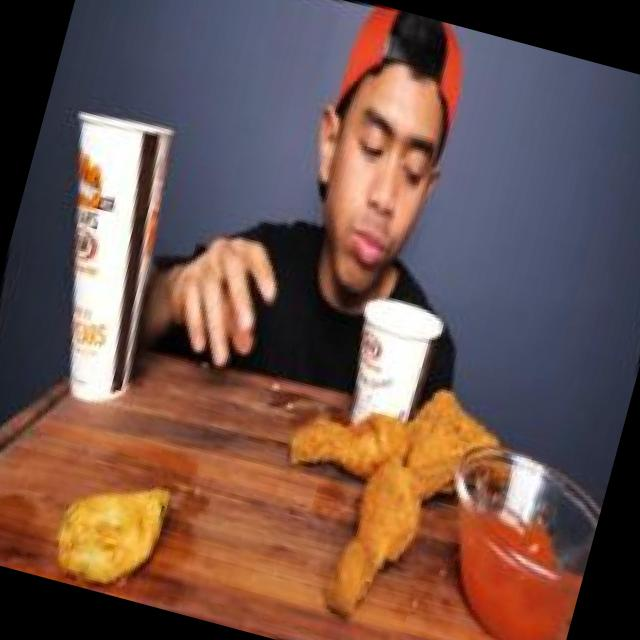AW cola: (0, 75, 212, 436)
crispy corn: (329, 276, 476, 458)
fried chicken: (242, 335, 528, 640)
perkedel: (25, 434, 192, 607)
